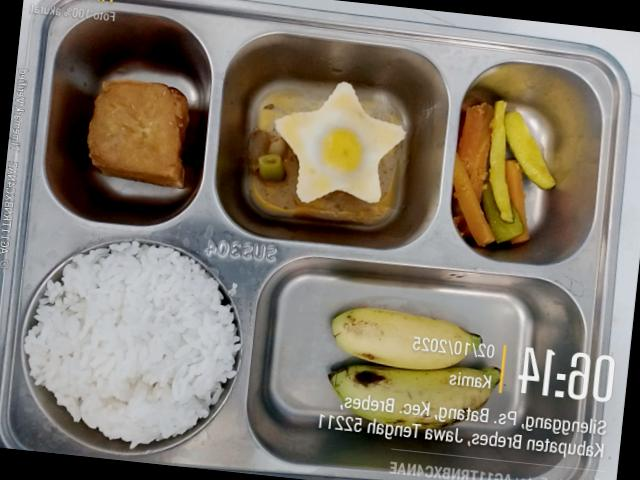buah: (329, 308, 499, 428)
nasi: (25, 242, 241, 448)
sayur: (453, 100, 555, 247)
tahu: (88, 80, 189, 187)
tempe: (276, 82, 406, 202)
